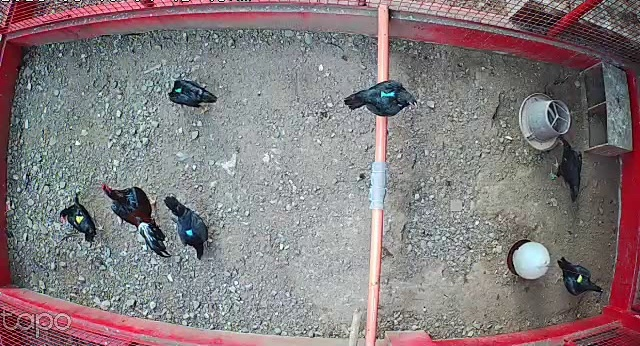Chicken: (341, 79, 421, 124), (163, 193, 213, 264), (541, 131, 586, 200), (552, 251, 608, 299), (168, 75, 227, 119), (57, 195, 98, 248)
Rooster: (100, 177, 176, 261)
Saddle_Color_Blue: (185, 230, 193, 237)
Saddle_Color_Yellow: (72, 209, 87, 226)
Saddle_Color_YellowGreen: (576, 274, 585, 285)
